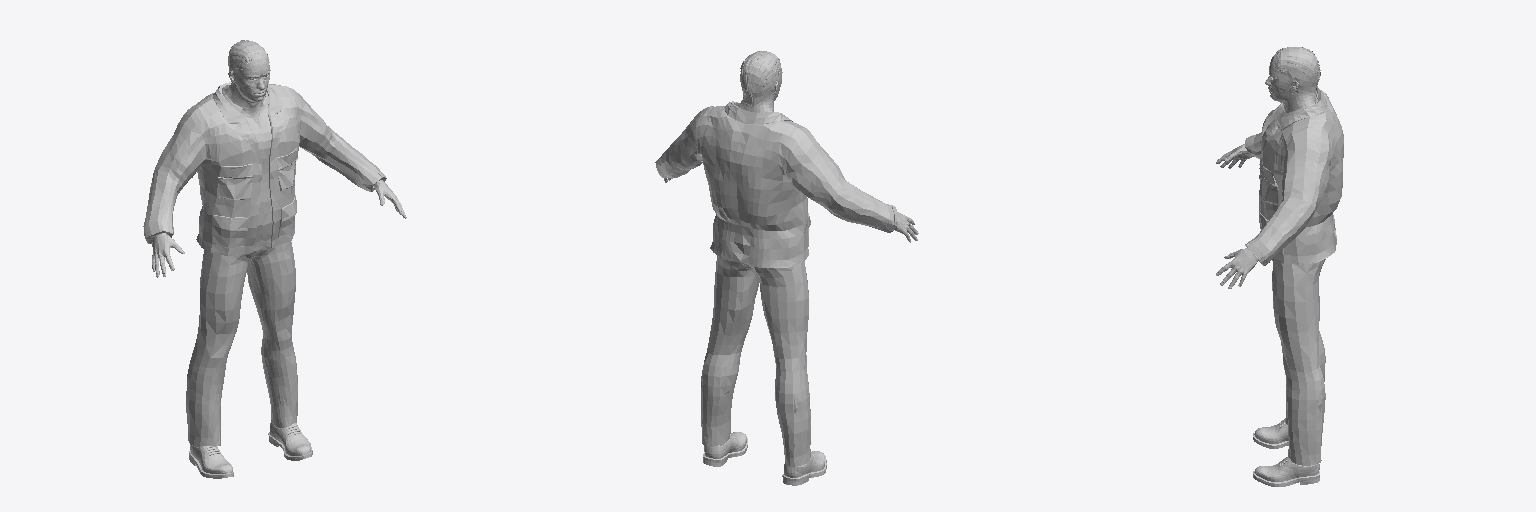
3 renders of one model, left to right at view 1: azimuth 30°, elevation 25°; view 2: azimuth 150°, elevation 25°; view 3: azimuth 270°, elevation 25°, orthographic.
Visible parts, largest first — view 1: Ml1:Male_casualsuit05, Ml1:Body, Ml1:Shoes03, Ml1:Short04; view 2: Ml1:Male_casualsuit05, Ml1:Short04, Ml1:Shoes03, Ml1:Body; view 3: Ml1:Male_casualsuit05, Ml1:Body, Ml1:Shoes03, Ml1:Short04.
Part boxes in pixels (left/top/right/bottom): Ml1:Male_casualsuit05: left=143, top=82, right=386, bottom=446; Ml1:Body: left=152, top=61, right=406, bottom=277; Ml1:Shoes03: left=189, top=420, right=312, bottom=478; Ml1:Short04: left=228, top=40, right=269, bottom=85; Ml1:Male_casualsuit05: left=655, top=101, right=898, bottom=466; Ml1:Short04: left=740, top=51, right=781, bottom=107; Ml1:Shoes03: left=703, top=432, right=826, bottom=485; Ml1:Body: left=664, top=72, right=918, bottom=242; Ml1:Male_casualsuit05: left=1245, top=87, right=1343, bottom=465; Ml1:Body: left=1216, top=59, right=1316, bottom=288; Ml1:Shoes03: left=1253, top=418, right=1319, bottom=486; Ml1:Short04: left=1272, top=47, right=1320, bottom=95.
Size of the model in its own units: 1.31 by 2.08 by 0.5843.